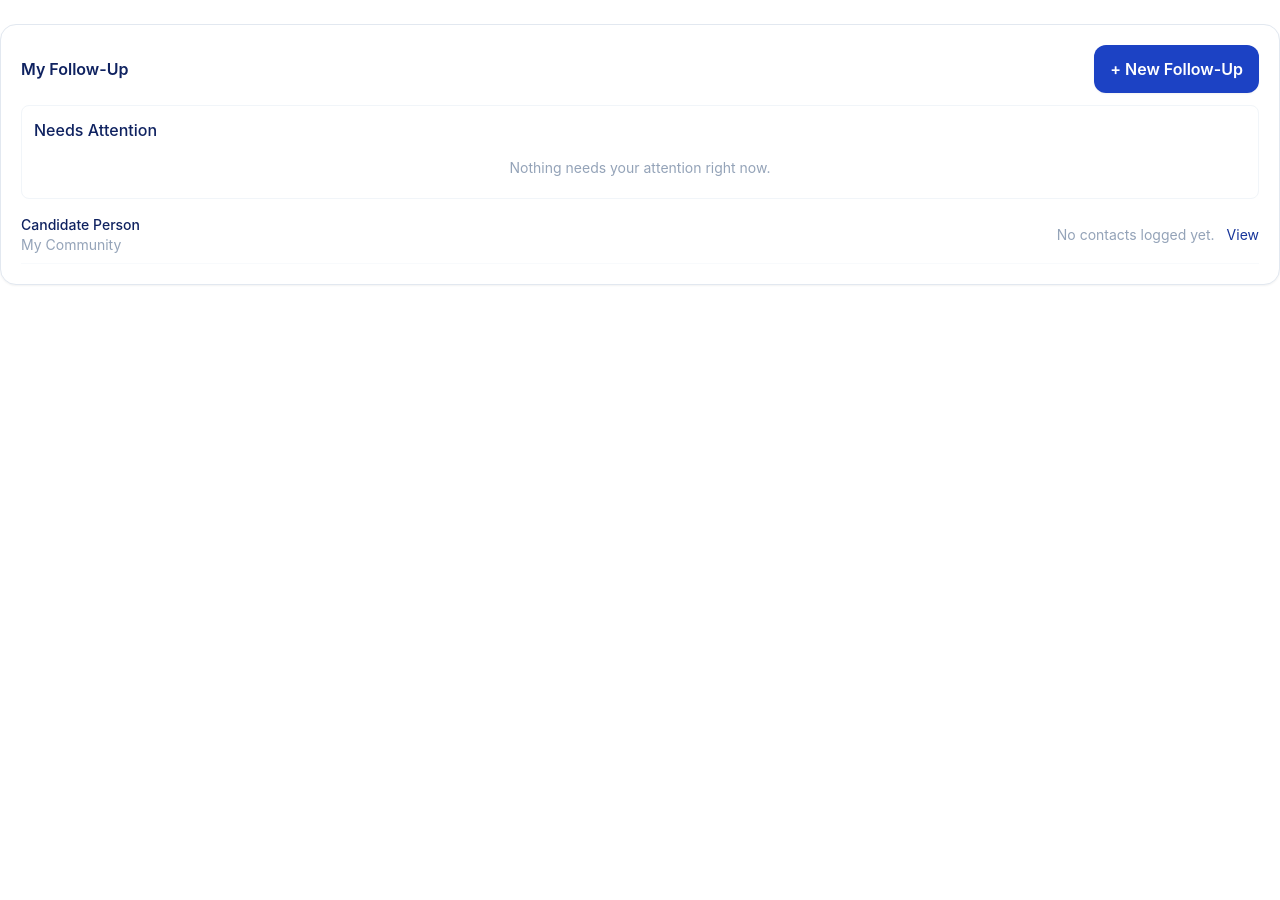
Test: MyFollowUp — private chat integration › offers the private chat when a Follow-Up is opened, alongside the log-contact form
Later steps or results of the test are not shown.
Click the button "View" at (1243, 235), box [1227,225,1259,245]
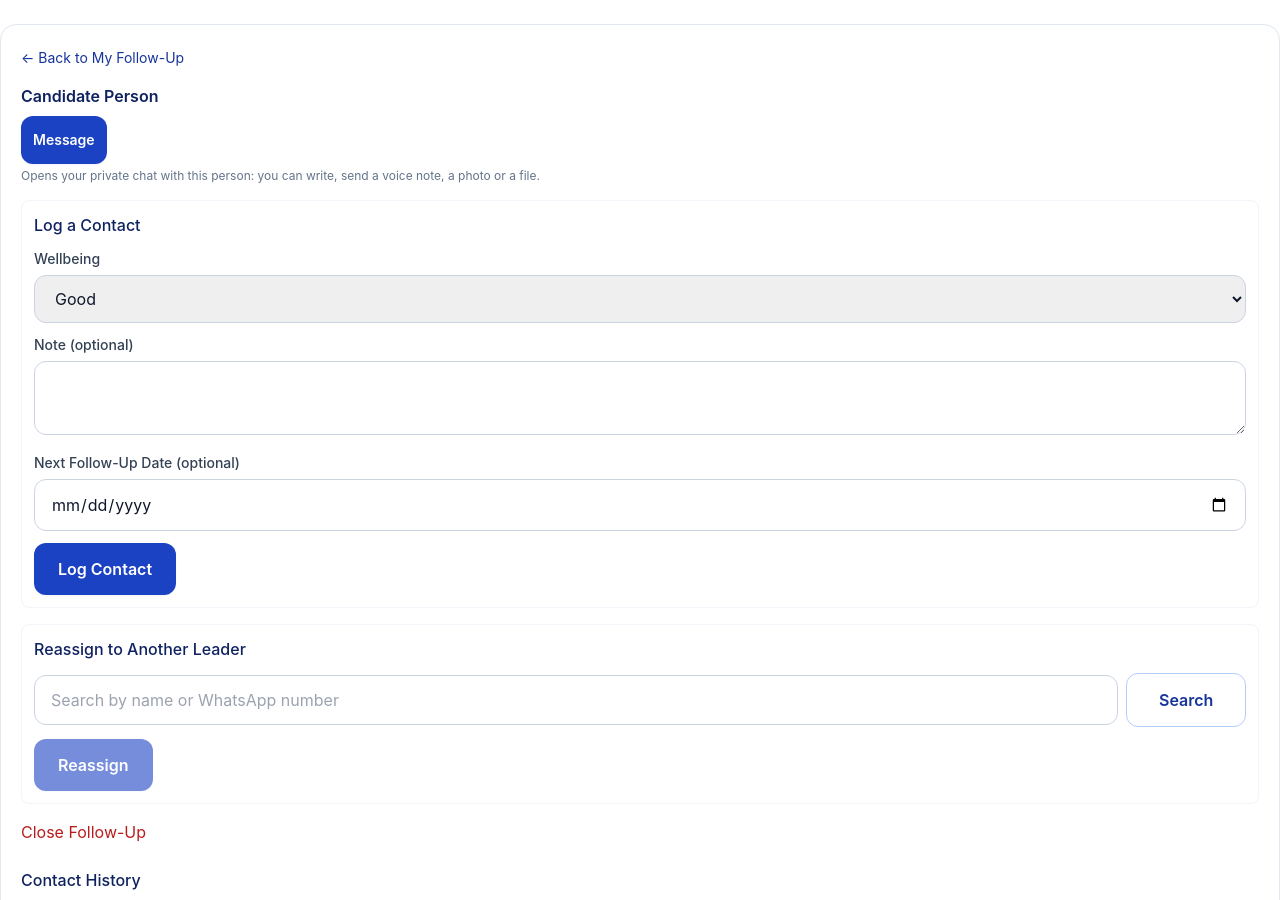
Expected: the heading "Log a Contact" is shown, [34,215,141,235]
